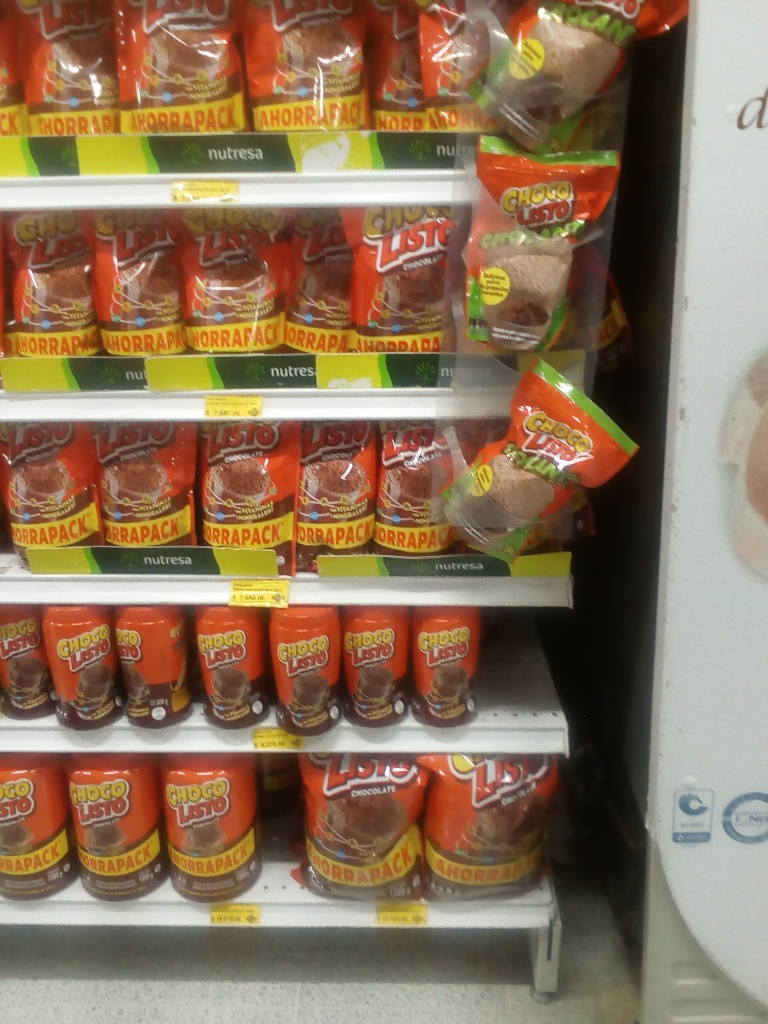COL0170102DYP25000: (468, 0, 686, 154)
COL0170103DYP1,500: (423, 751, 561, 905)
COL0170103DYP40000: (379, 419, 460, 549)
COL0170103TRR00100: (154, 752, 263, 902)
COL0170103TRR30000: (411, 605, 493, 727)
